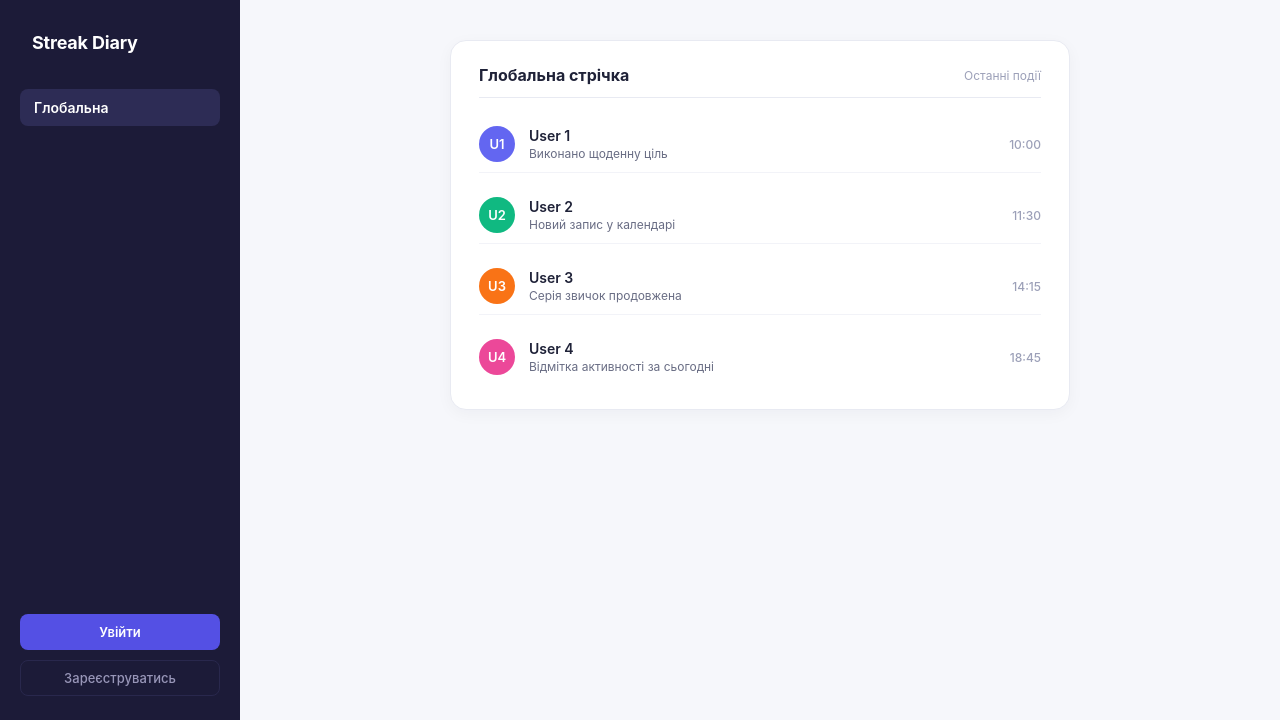
Test: Streak Diary E2E Routing Tests › авторизує користувача, перенаправляє на /home і дозволяє перемикати сторінки через react-router
The width and height of the screenshot is (1280, 720).
Click the button "Увійти": (120,632) [20,614,220,650]
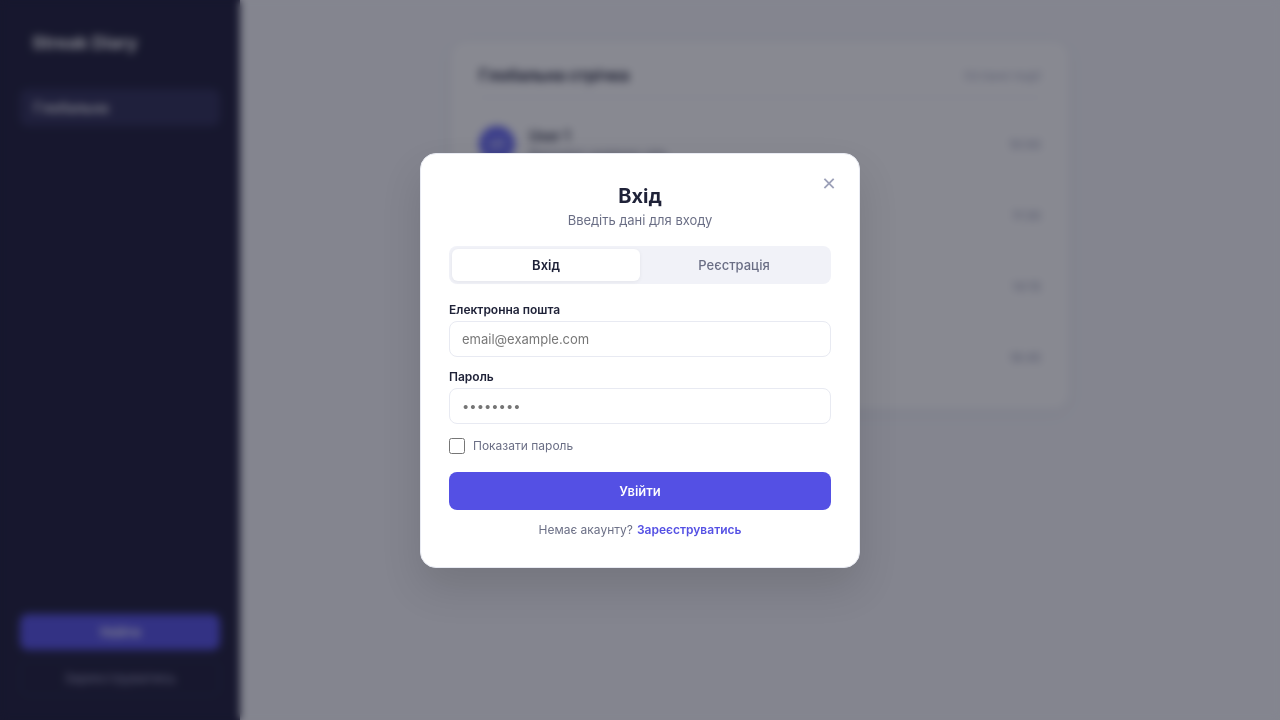
Expected: the heading "Вхід" is shown, [618,184,662,208]
In the field labelled "Електронна пошта": (640,339) [449,321,831,357], type "student@uzhnu.edu.ua"
In the password field labelled "Пароль": (640,406) [449,388,831,424], type "password123"
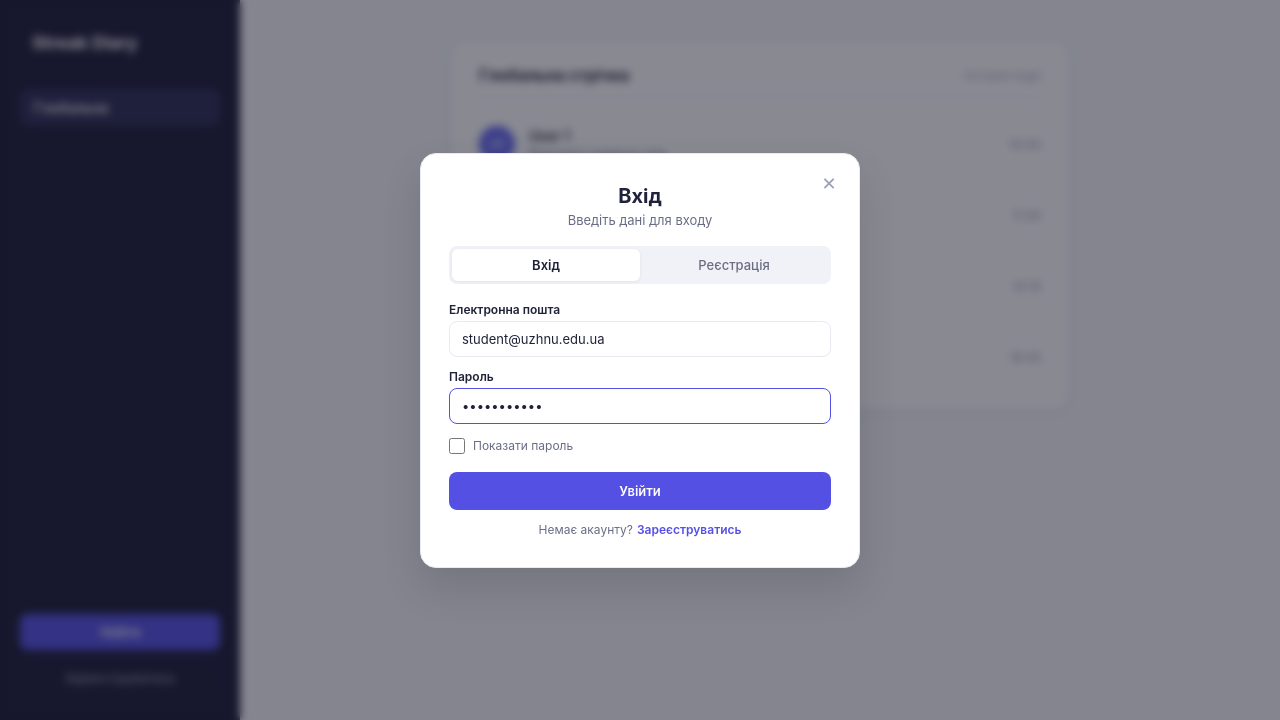
Submit the form, box [449,302,831,537]
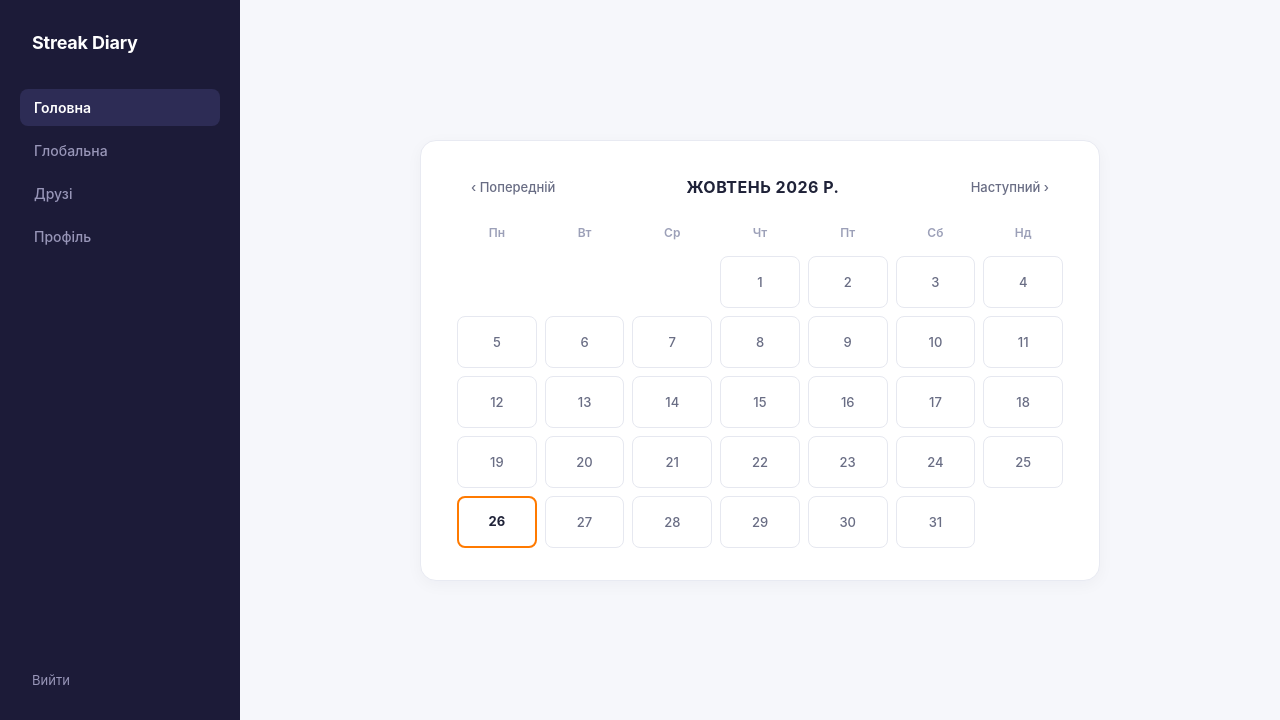
Expected: the link "Головна" is shown, [20,89,220,126]
Expected: the link "Друзі" is shown
Expected: the link "Профіль" is shown, [34,228,91,245]
Click the link "Друзі": (53,194) [34,185,72,202]
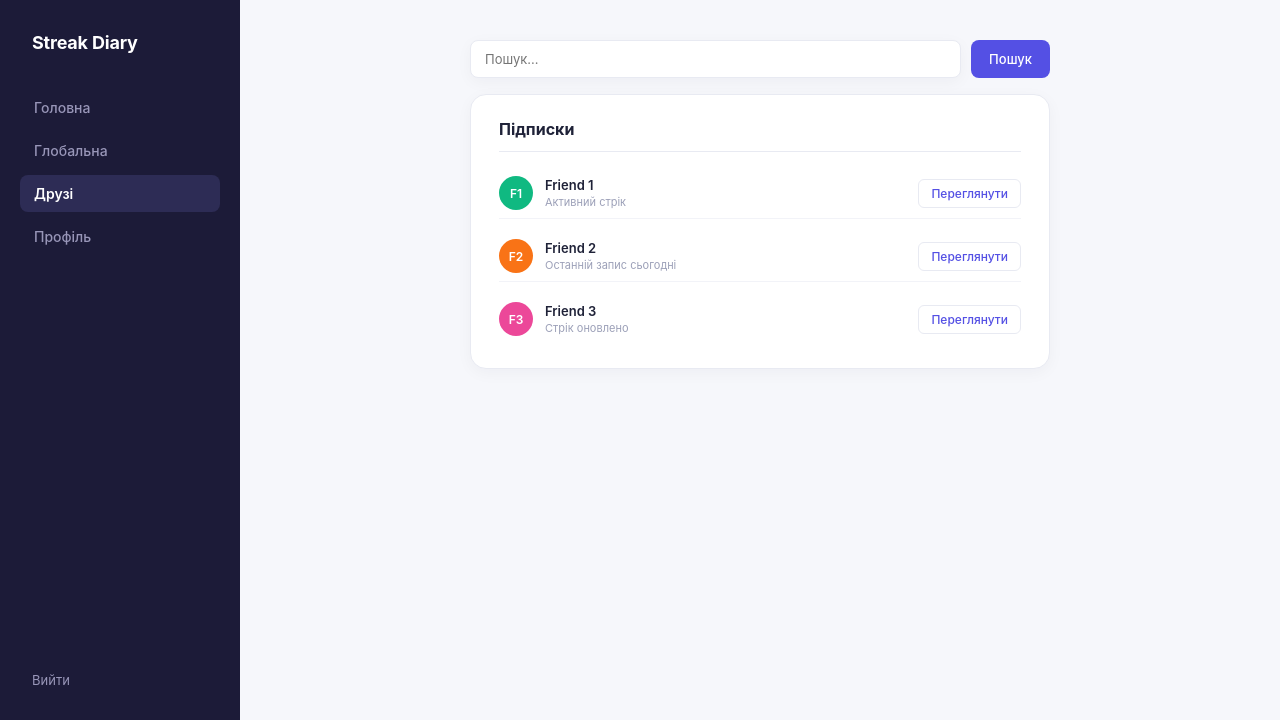
Expected: the heading "Підписки" is shown, [499,119,1021,152]
Click the link "Профіль": (63,237) [34,228,91,245]
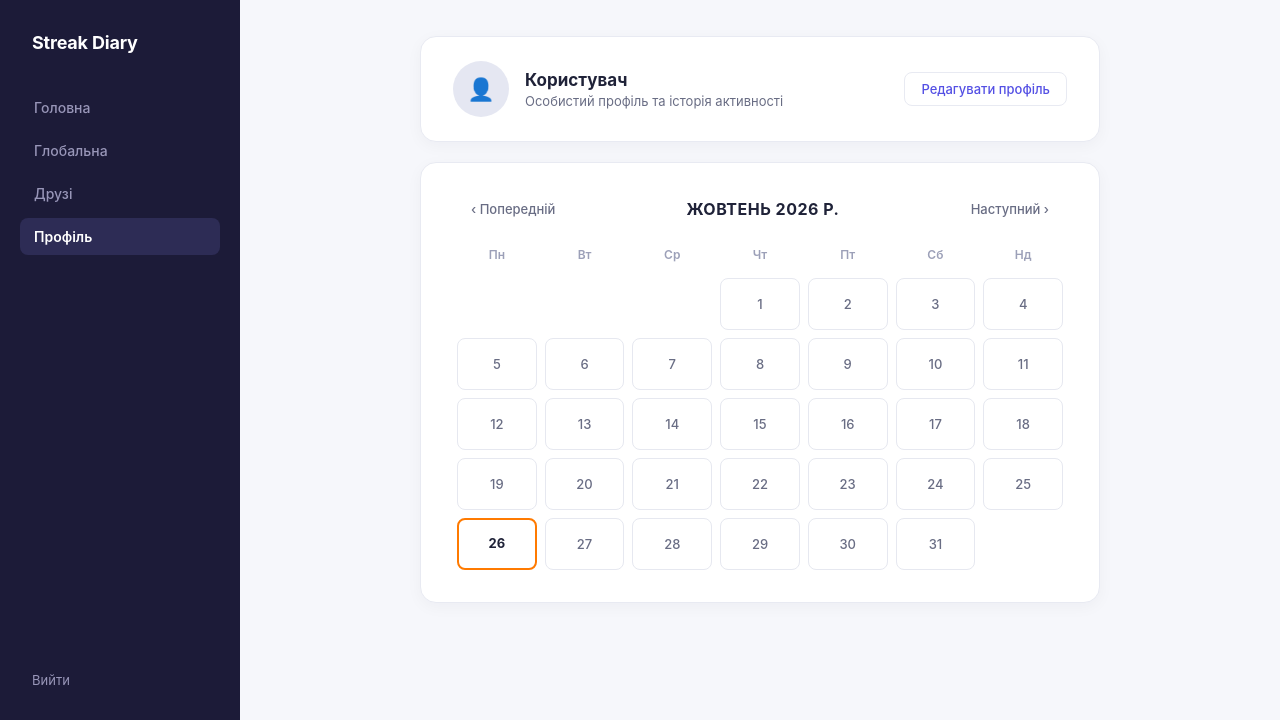
Expected: the heading "Користувач" is shown, [525,70,627,90]
Click the button "Вийти": (120,680) [20,664,220,696]
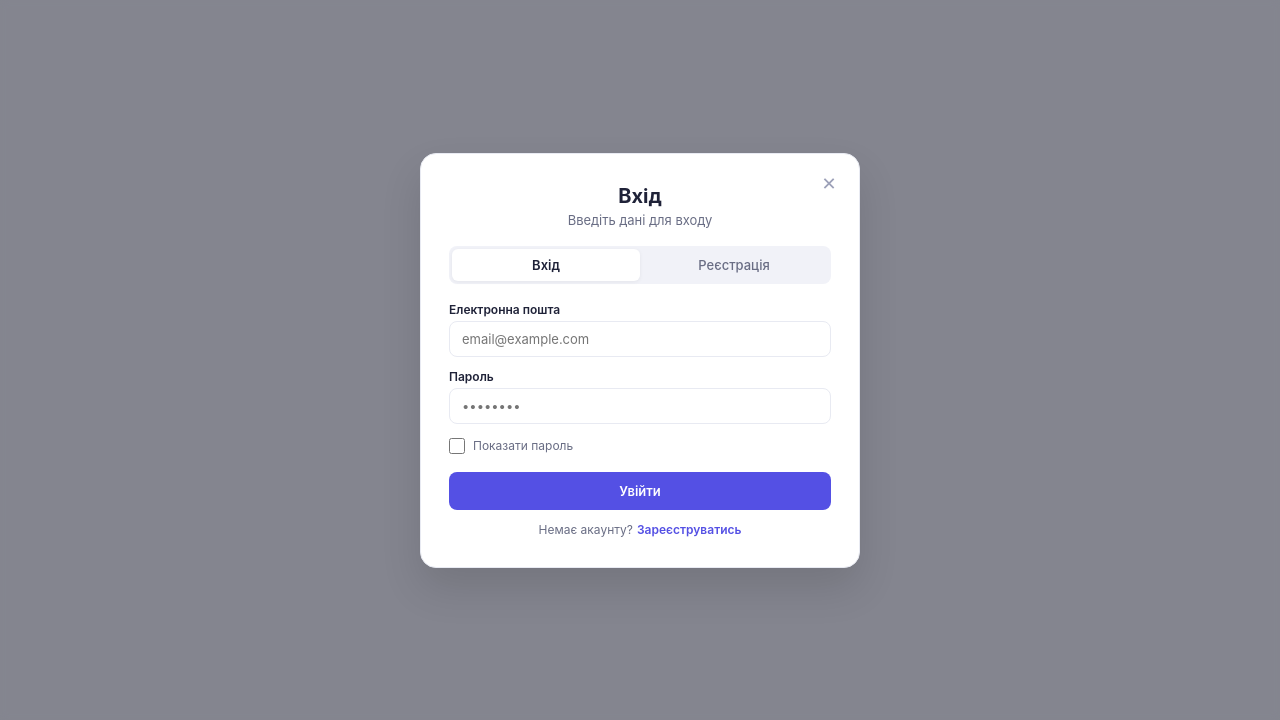
Expected: the link "Головна" is gone
